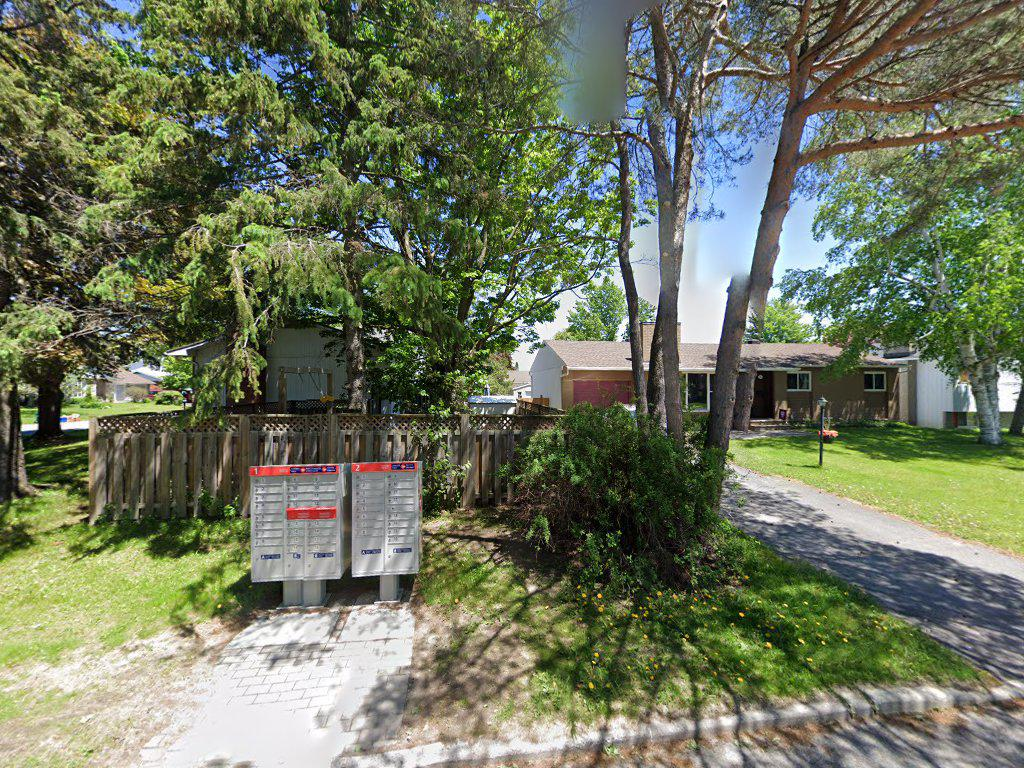trunk: (966, 353, 1004, 450)
